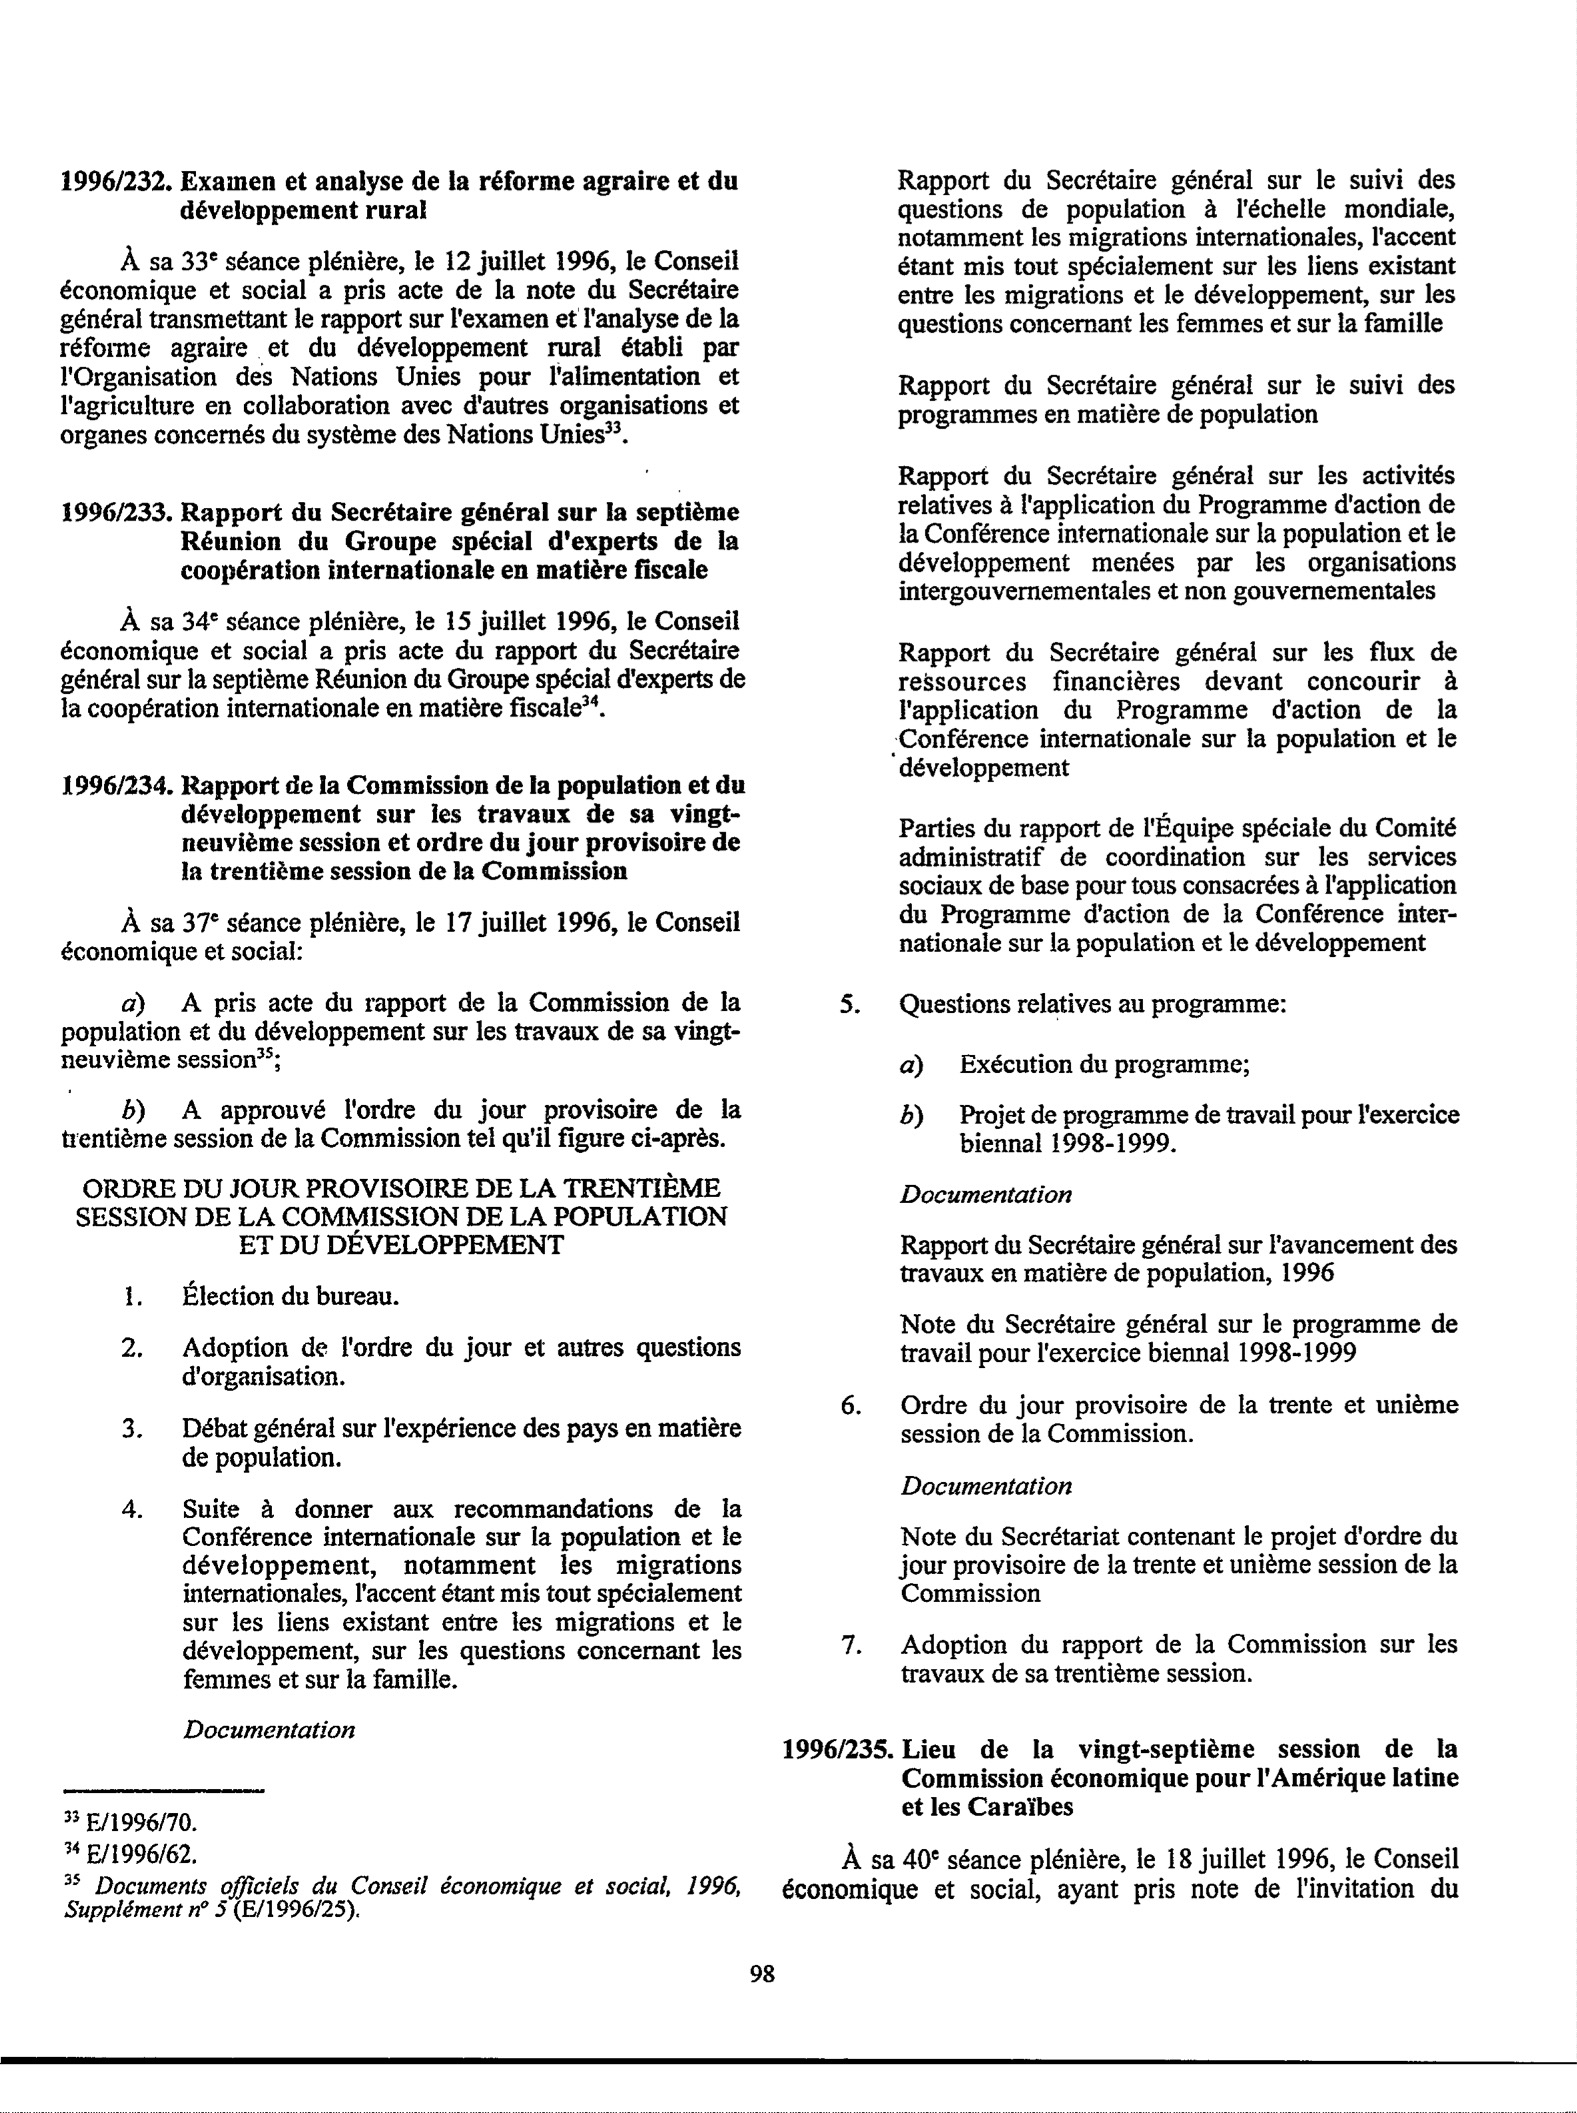MainZone-Head: (54, 766, 749, 890), (775, 1728, 1469, 1824), (54, 492, 746, 588), (63, 1169, 738, 1262), (55, 159, 743, 231)
MainZone-ListItem: (111, 1491, 749, 1697), (52, 982, 748, 1080), (52, 1089, 745, 1159), (103, 1326, 749, 1396), (104, 1409, 745, 1477), (831, 1624, 1463, 1690), (884, 1094, 1463, 1166), (831, 1386, 1463, 1450), (830, 984, 1290, 1027), (876, 1044, 1259, 1084), (110, 1275, 410, 1317)
MainZone-P: (54, 241, 744, 452), (890, 158, 1464, 343), (53, 600, 751, 728), (891, 458, 1465, 613), (891, 809, 1467, 963), (891, 635, 1467, 785), (770, 1839, 1472, 1918), (889, 1514, 1467, 1608), (52, 899, 749, 972), (890, 364, 1463, 435), (888, 1306, 1466, 1369), (886, 1228, 1461, 1290), (167, 1710, 368, 1750), (893, 1465, 1083, 1506), (887, 1176, 1082, 1212)
MarginTextZone-Notes: (57, 1871, 750, 1925), (56, 1801, 206, 1836), (60, 1839, 204, 1871)
NumberingZone: (739, 1958, 784, 1992)
